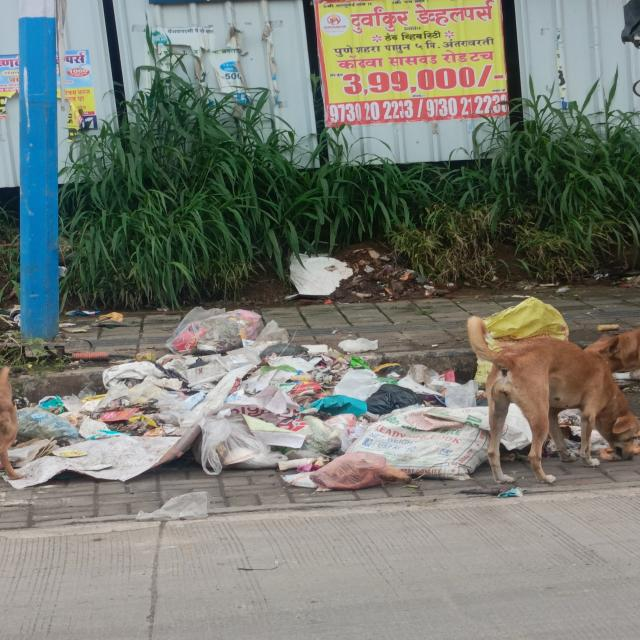garbage: (17, 310, 537, 497)
